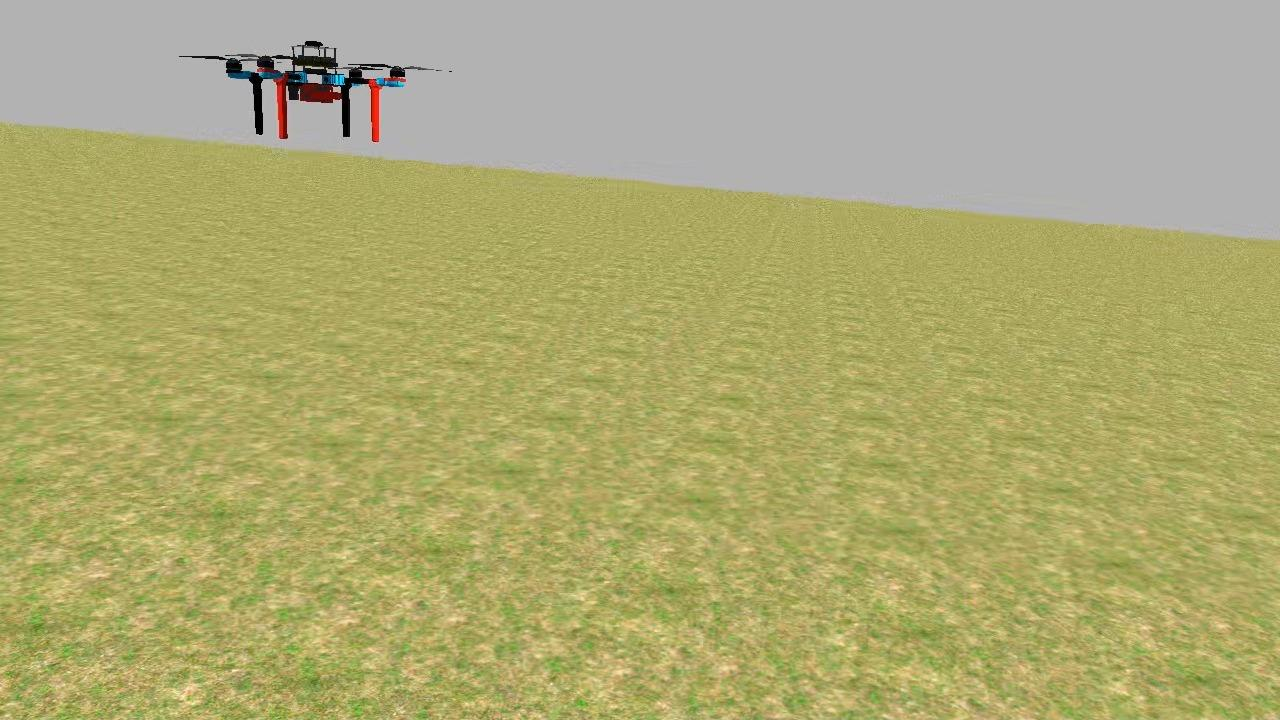UAV: (220, 32, 414, 148)
